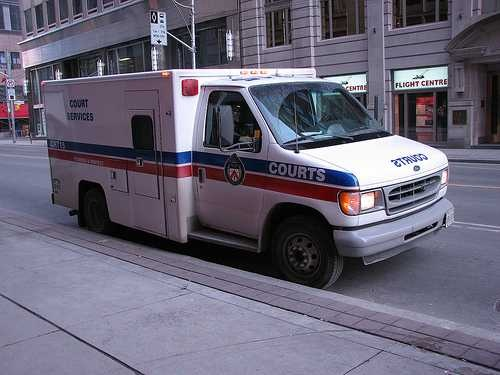Police Van: (38, 37, 479, 301)
